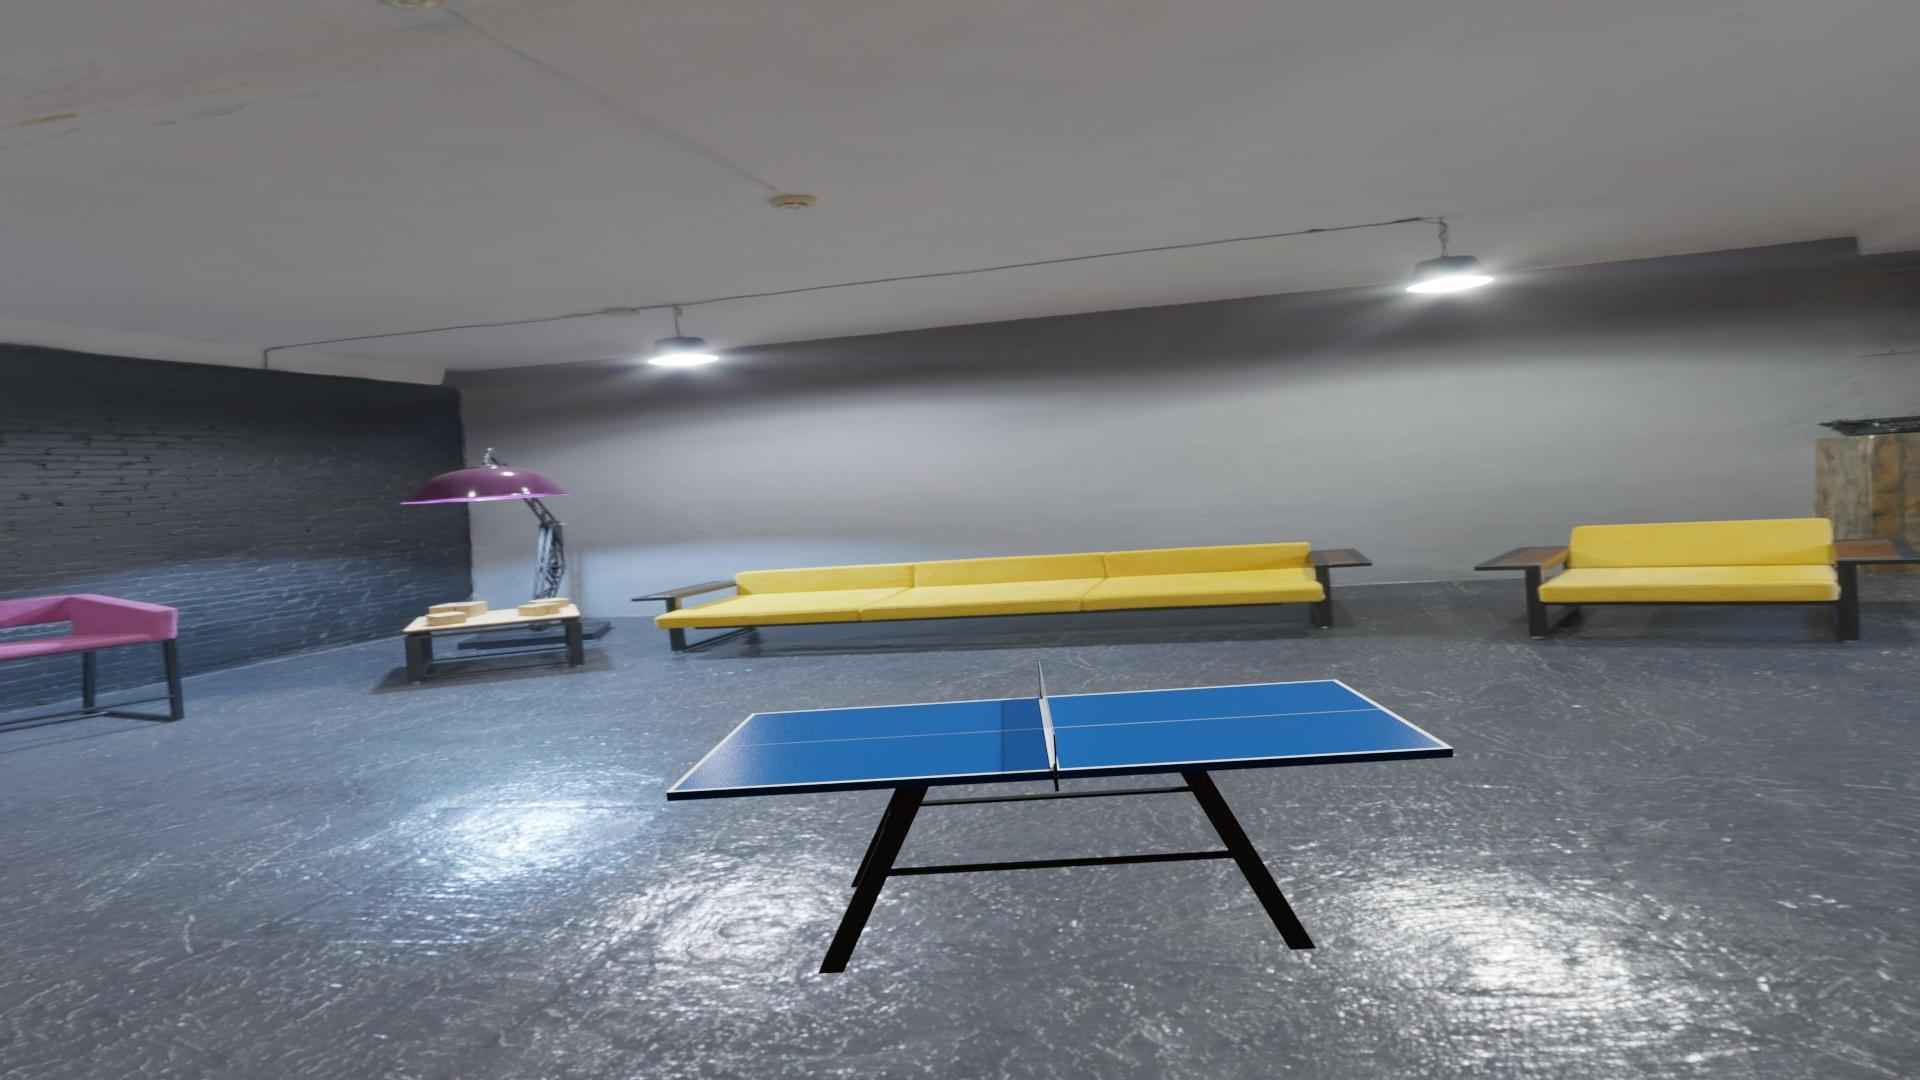table: (673, 680, 1445, 791)
